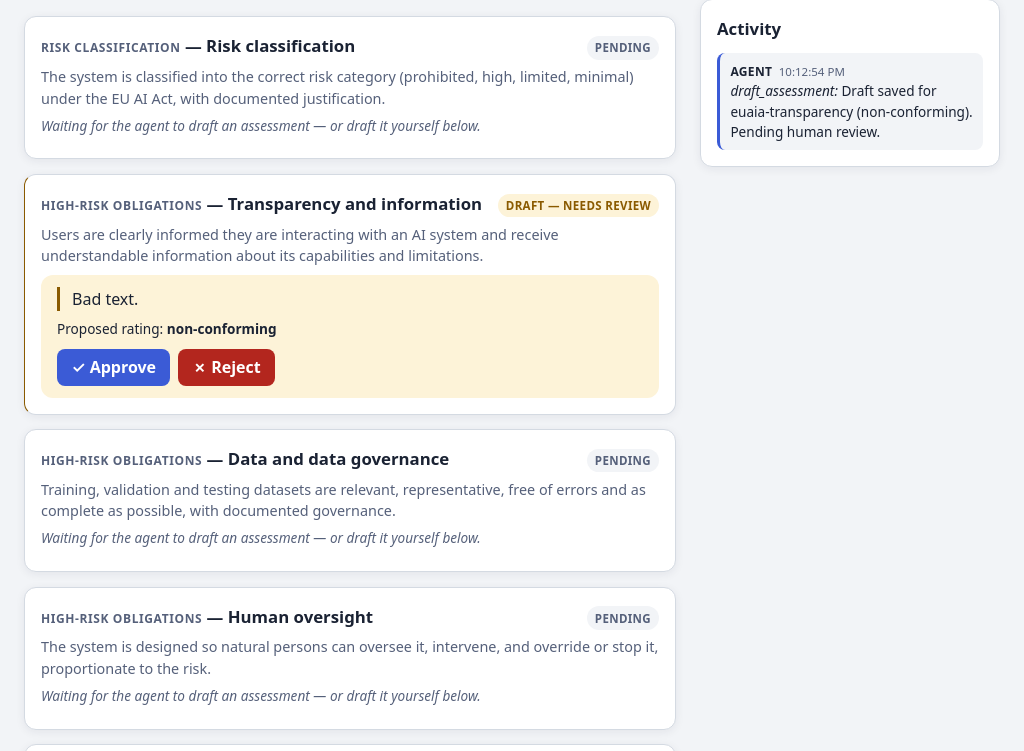
Test: página Auditoría › rechazar mueve el criterio a rejected sin texto final
(page scrolled)
Click the button "✗ Reject": point(227, 367) [178, 349, 275, 386]
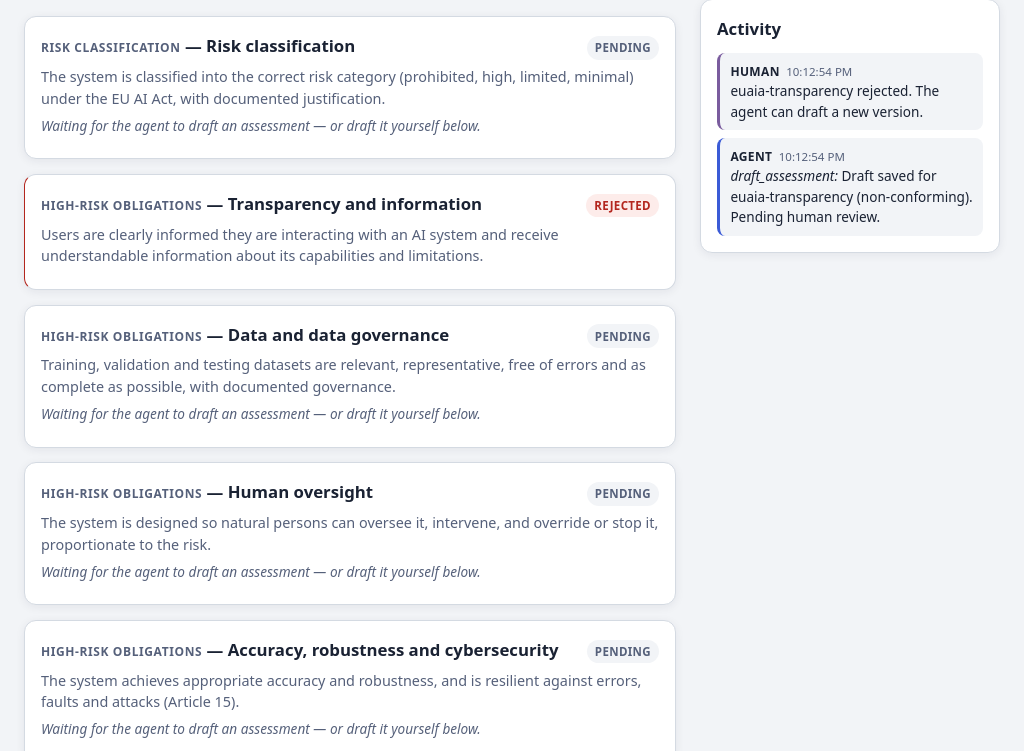
Result: the text "Rejected" is shown at [586, 194, 659, 217]
Result: the text "Bad text." is gone
